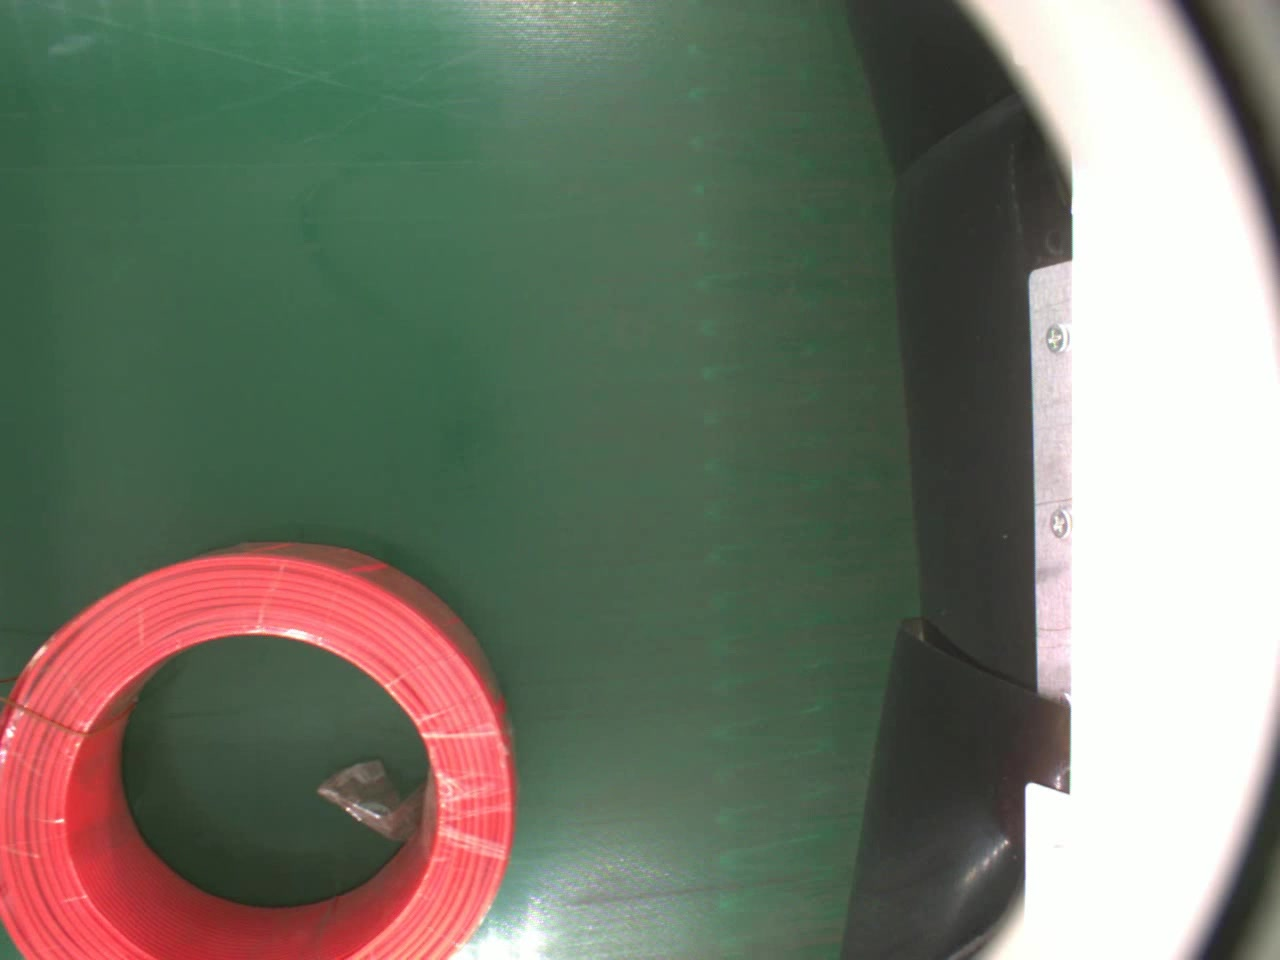red: (0, 533, 517, 960)
